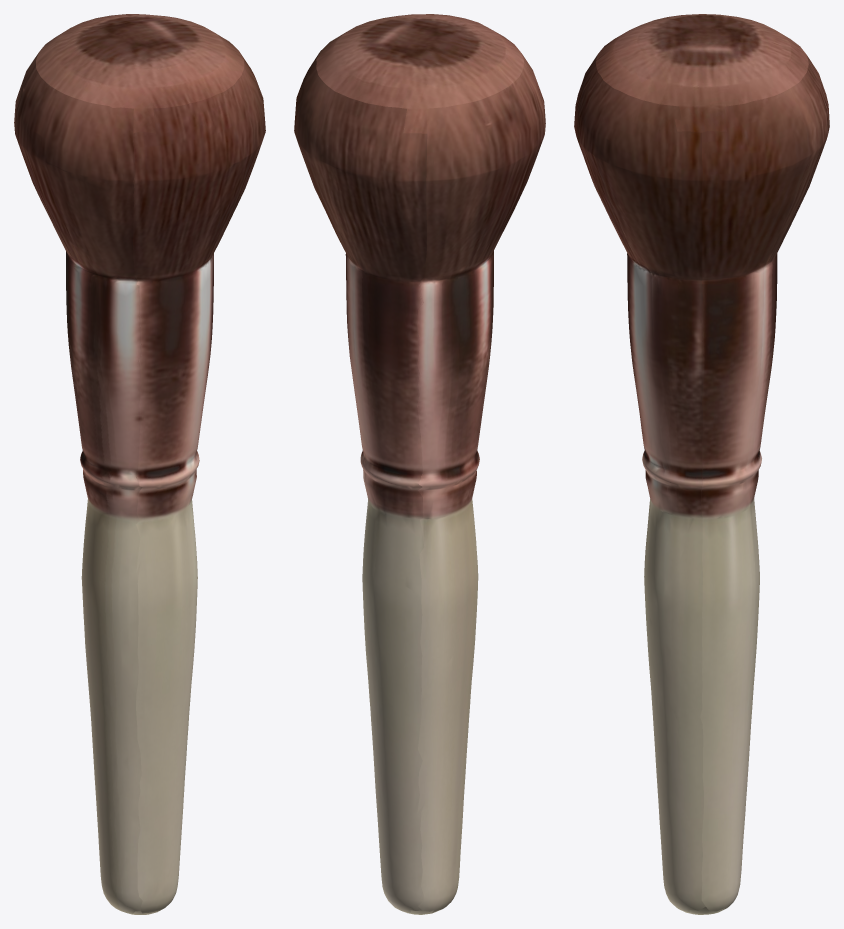
Rendered from powder_brush_glb.glb.
The picture shows the model from 3 angles, left to right: view 1: azimuth 30°, elevation 25°; view 2: azimuth 150°, elevation 25°; view 3: azimuth 270°, elevation 25°; orthographic projection.
Visible parts, largest first — view 1: geometry_0; view 2: geometry_0; view 3: geometry_0.
Part boxes in pixels (<box>): geometry_0: <box>14,14,265,914</box>; geometry_0: <box>294,14,545,914</box>; geometry_0: <box>574,14,829,914</box>.
Bounding box in the file's own units: 0.0445 × 0.17 × 0.0451.
Materials: 1 (1 with a texture image).
